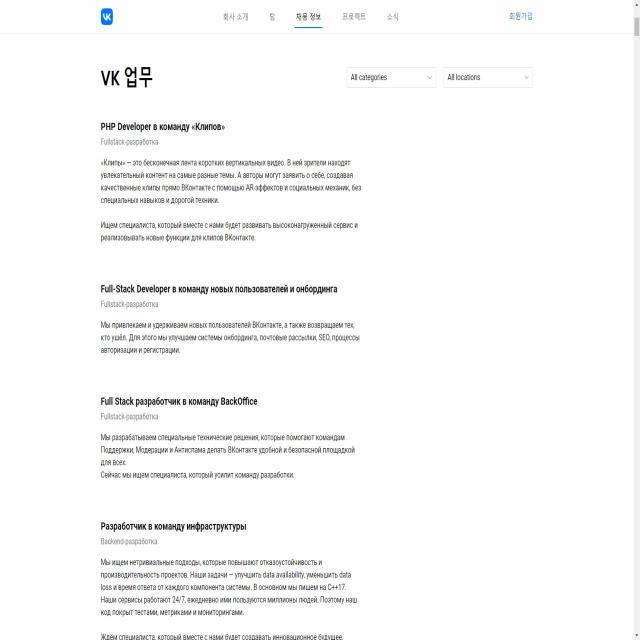menu-bar: (217, 2, 406, 30)
